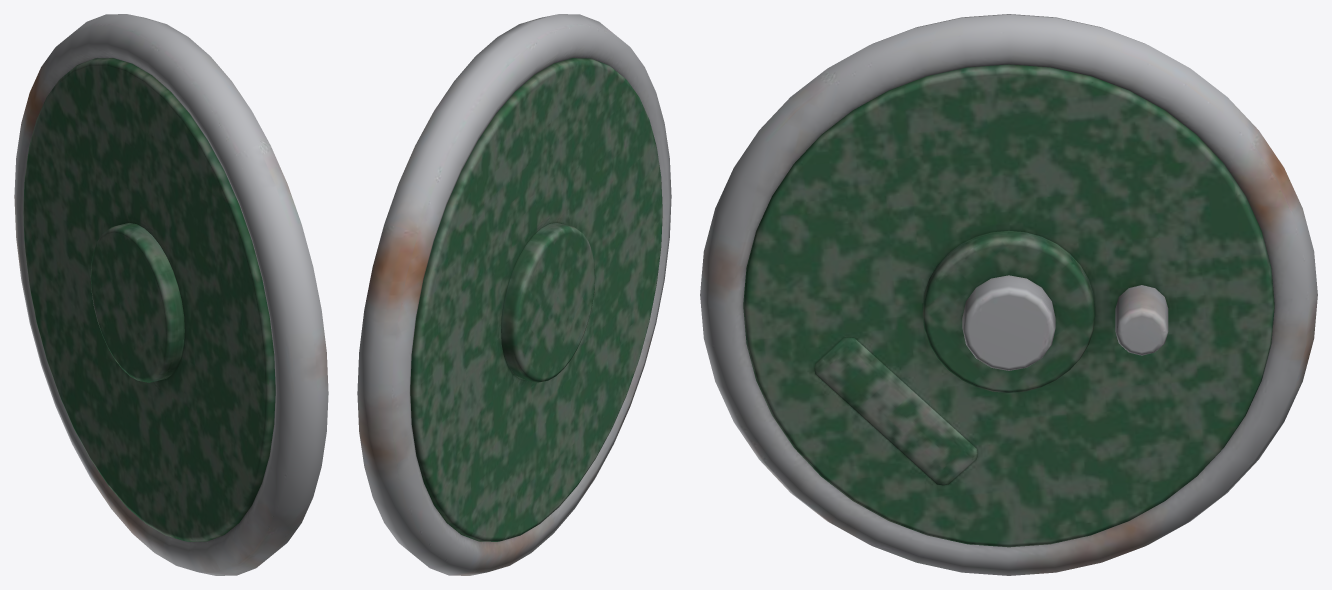
Rendered from wheel.glb.
The picture shows the model from 3 angles, left to right: view 1: azimuth 30°, elevation 25°; view 2: azimuth 150°, elevation 25°; view 3: azimuth 270°, elevation 25°; orthographic projection. The views are drawn at different scales.
Visible parts, largest first — view 1: Wheel; view 2: Wheel; view 3: Wheel.
Part boxes in pixels (box(x1,y1,x2,y2)): Wheel: box(14, 14, 328, 575); Wheel: box(357, 14, 671, 575); Wheel: box(700, 14, 1317, 575).
Size of the model in its own units: 0.22 by 0.93 by 0.93.
Materials: 3 (3 with a texture image).
